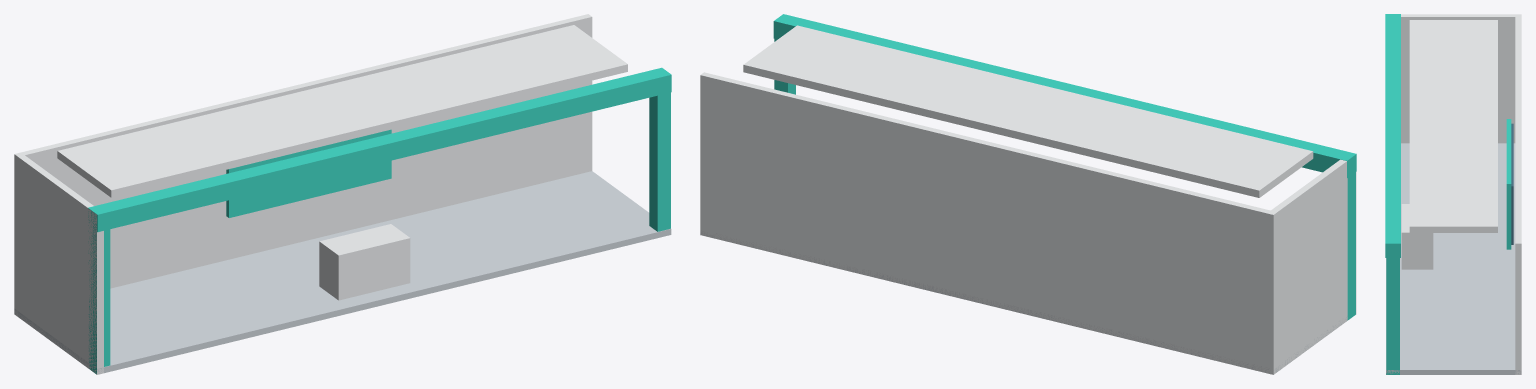
3 renders of one model, left to right at view 1: azimuth 30°, elevation 25°; view 2: azimuth 150°, elevation 25°; view 3: azimuth 270°, elevation 25°, orthographic. The views are drawn at different scales.
Visible parts, largest first — view 1: Exhibition Booth Concept; view 2: Exhibition Booth Concept; view 3: Exhibition Booth Concept.
Boxes of the visible parts, x1,y1,x2,y2 form: Exhibition Booth Concept: (14, 14, 671, 374); Exhibition Booth Concept: (700, 14, 1356, 374); Exhibition Booth Concept: (1385, 14, 1521, 374).
Bounding box in the file's own units: 12 × 3.34 × 3.01.
